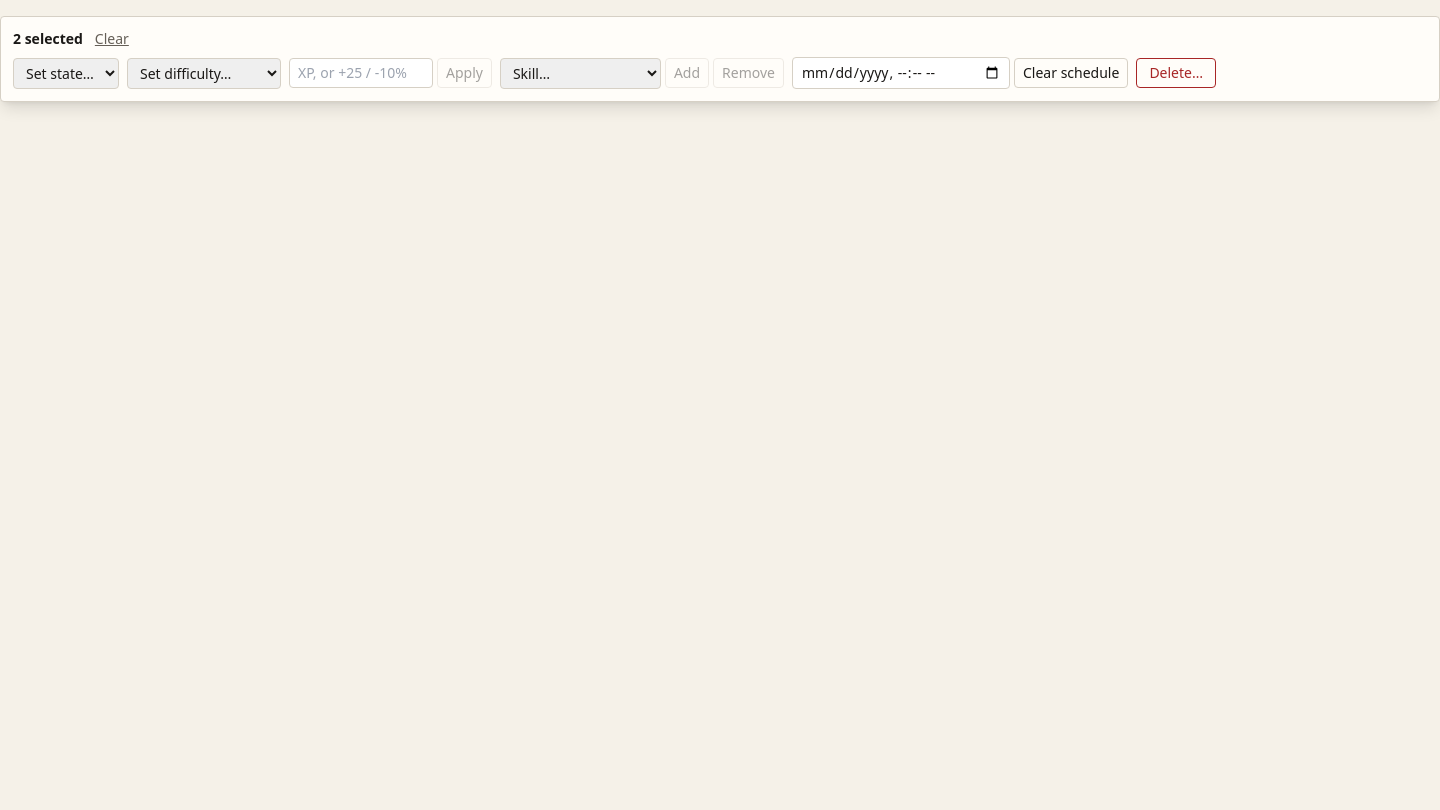
Test: BulkToolbar › reports what actually happened, including a removed area
This screenshot has width=1440, height=810.
What coordinates should you click on to do the following:
click the button "Delete…"
I would click on:
 (1176, 73)
Its box is top-left (1136, 58), bottom-right (1216, 88).
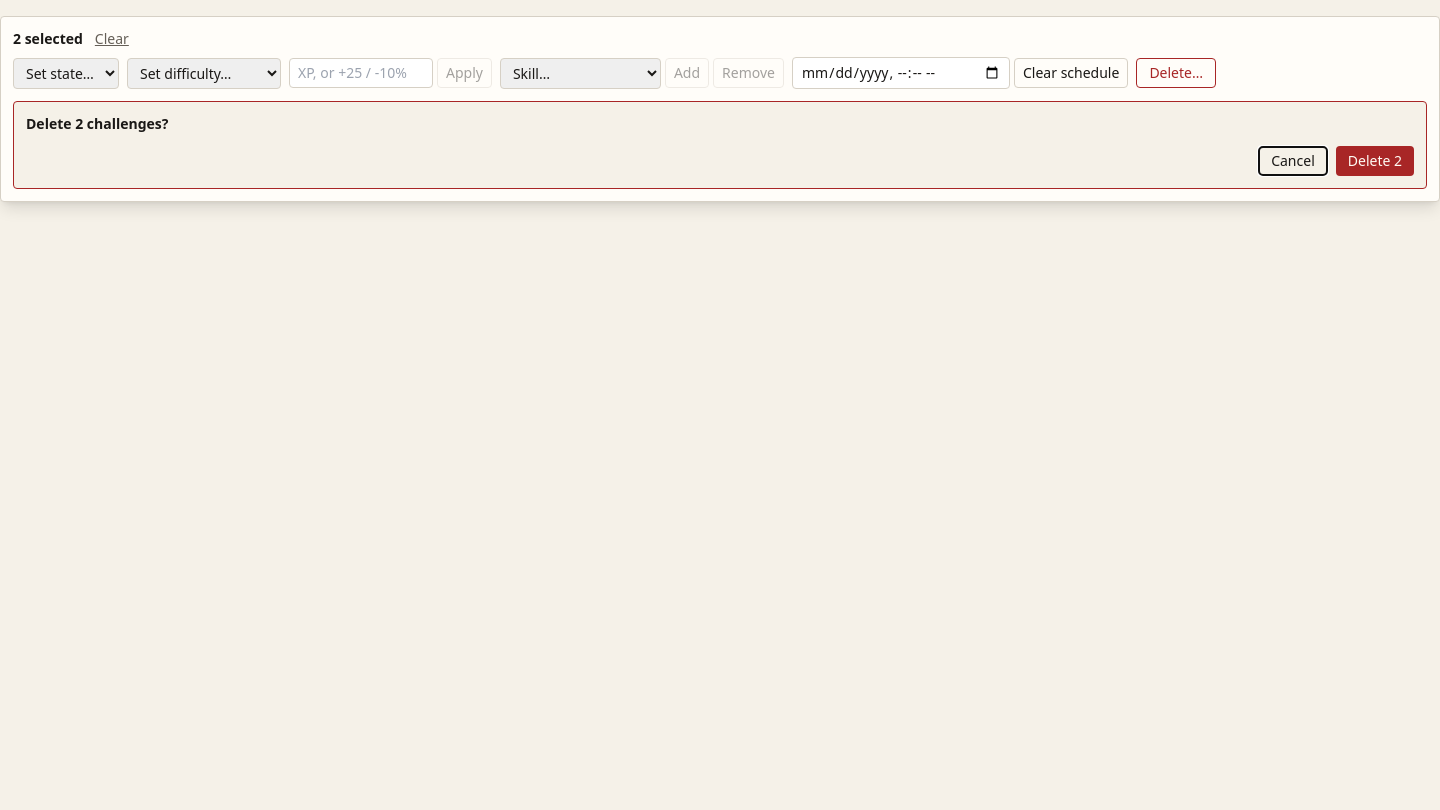
Check: the dialog named "Confirm delete" is shown, box top-left (13, 101), bottom-right (1427, 189)
What coordinates should you click on to do the following:
click the button "Delete 2"
I would click on:
 (1375, 161)
Its box is top-left (1336, 146), bottom-right (1414, 176).
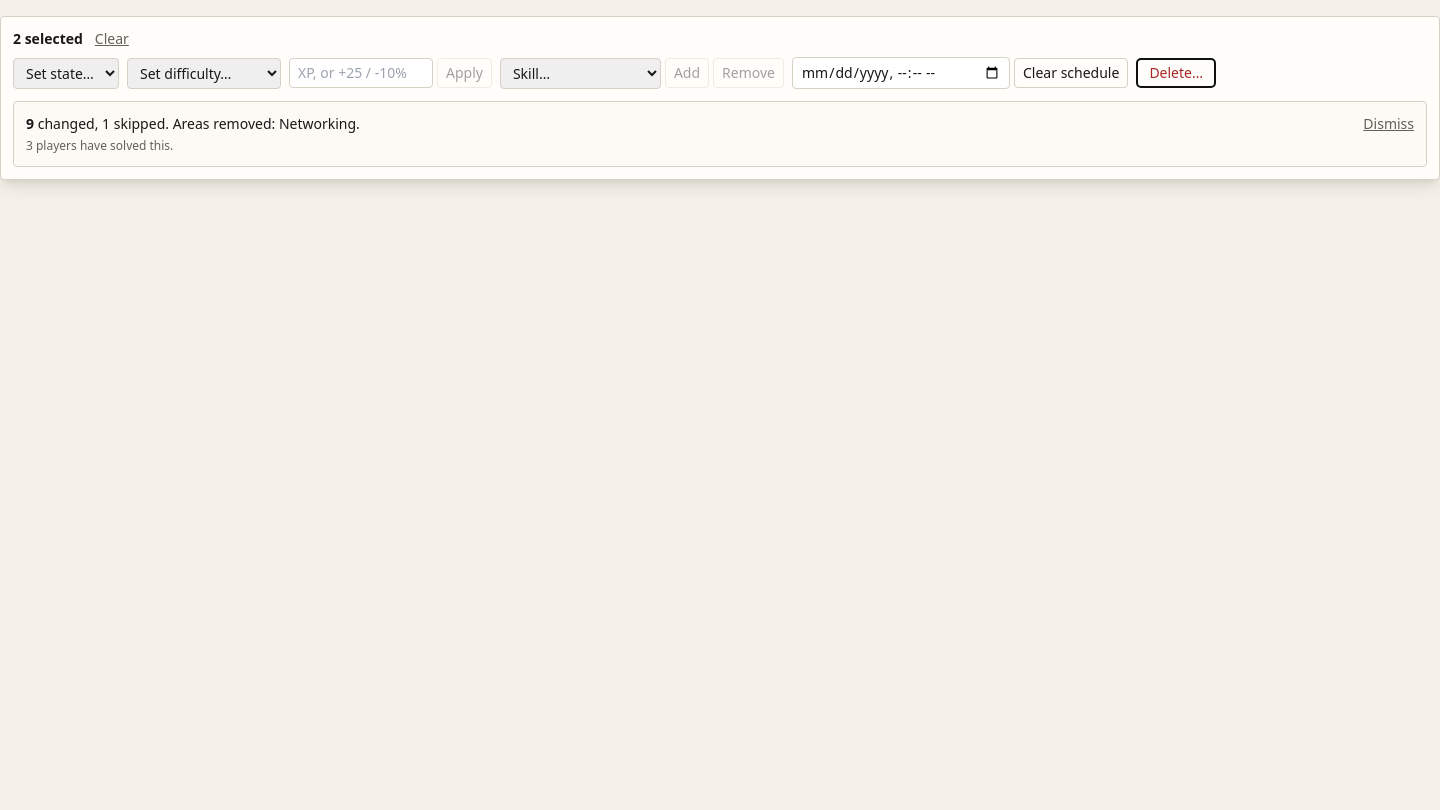
Check: the message shows "9 changed, 1 skipped", box top-left (13, 101), bottom-right (1427, 167)
Check: the message shows "Areas removed: Networking", box top-left (13, 101), bottom-right (1427, 167)
Check: the message shows "3 players have solved this.", box top-left (26, 137), bottom-right (173, 154)
